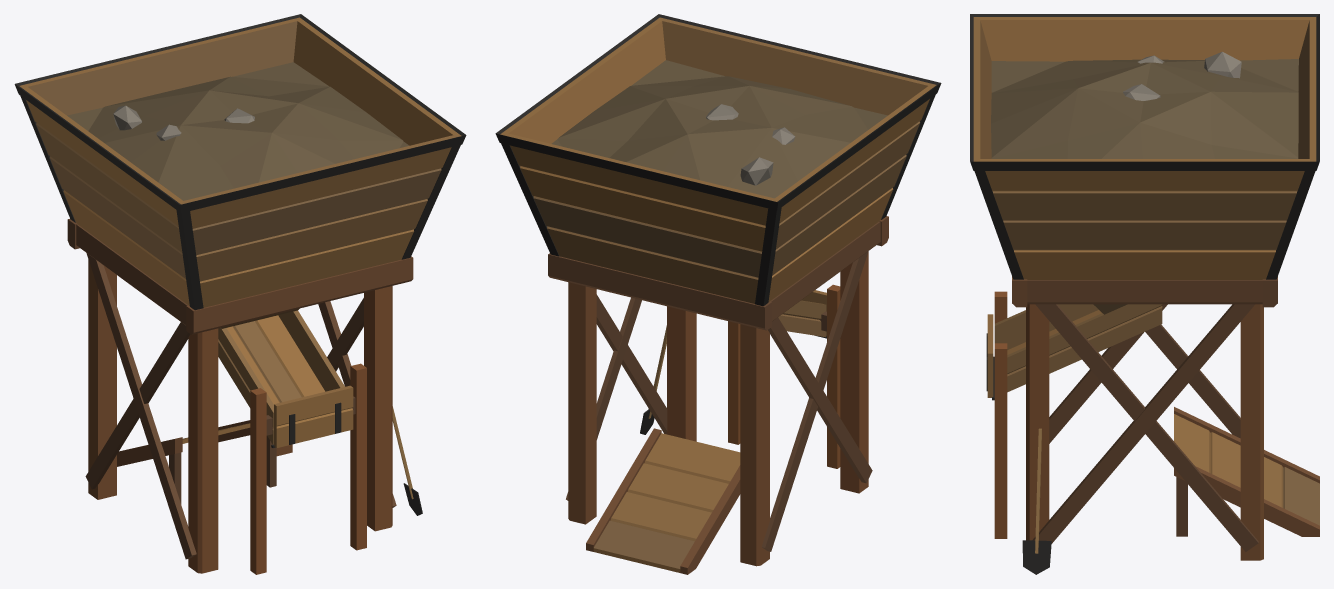
Rendered from ore-chute-and-bin-8375ac.glb.
The picture shows the model from 3 angles, left to right: view 1: azimuth 30°, elevation 25°; view 2: azimuth 150°, elevation 25°; view 3: azimuth 270°, elevation 25°; orthographic projection. The views are drawn at different scales.
Parts seen in each view (by area): view 1: bin-body, ore-load, gate-board, shovel-mesh; view 2: bin-body, ore-load; view 3: bin-body, ore-load, shovel-mesh, gate-board.
Boxes of the visible parts, x1=… form: bin-body: x1=14, y1=14, x2=466, y2=574; ore-load: x1=67, y1=62, x2=409, y2=200; gate-board: x1=274, y1=385, x2=353, y2=447; shovel-mesh: x1=392, y1=406, x2=422, y2=515; bin-body: x1=495, y1=14, x2=941, y2=574; ore-load: x1=551, y1=60, x2=887, y2=198; bin-body: x1=970, y1=14, x2=1319, y2=560; ore-load: x1=991, y1=51, x2=1298, y2=158; shovel-mesh: x1=1022, y1=428, x2=1051, y2=574; gate-board: x1=986, y1=314, x2=993, y2=397.
Size of the model in its own units: 3 by 4 by 3.
